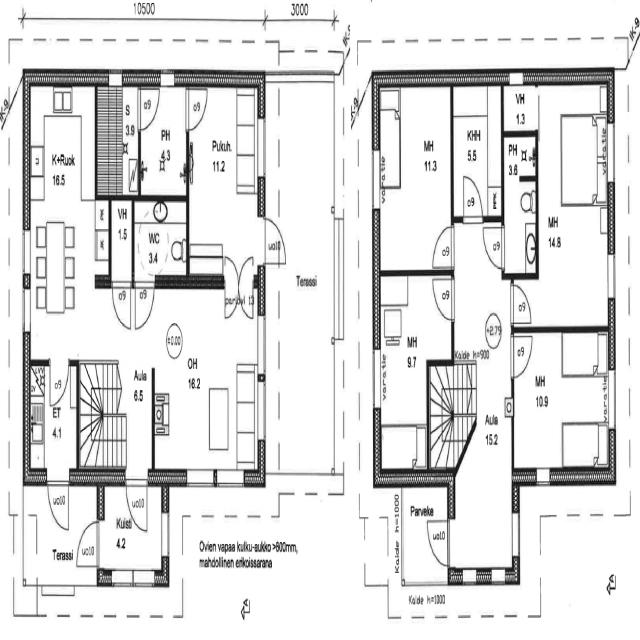door: (221, 248, 252, 324), (124, 472, 150, 534), (46, 471, 71, 532), (260, 212, 287, 266), (75, 515, 101, 569), (429, 271, 456, 322), (426, 514, 451, 568), (430, 222, 455, 270), (136, 83, 160, 133), (133, 276, 156, 328), (185, 85, 209, 134), (510, 329, 534, 378), (482, 219, 505, 270), (110, 278, 132, 331), (461, 174, 484, 222), (48, 358, 70, 407), (510, 280, 534, 324)
window: (256, 372, 268, 443), (256, 109, 267, 186), (370, 144, 382, 214), (256, 310, 268, 380), (371, 342, 382, 414), (214, 467, 248, 489), (184, 466, 217, 488), (125, 566, 156, 588), (606, 118, 616, 186), (160, 508, 172, 563), (606, 246, 617, 304), (606, 366, 616, 428), (510, 506, 521, 560), (20, 225, 31, 278), (110, 566, 136, 588), (21, 282, 31, 336), (533, 464, 553, 489), (490, 562, 507, 586), (158, 70, 178, 90), (461, 564, 479, 586), (507, 70, 526, 87)
zone: (28, 80, 112, 359), (152, 280, 258, 473), (537, 77, 610, 331), (377, 269, 454, 475), (378, 83, 454, 272), (188, 82, 260, 278), (511, 328, 607, 470), (452, 83, 503, 219), (100, 475, 166, 578), (27, 362, 76, 477), (139, 84, 188, 196), (95, 79, 140, 193), (503, 130, 537, 278), (132, 196, 188, 282), (111, 193, 133, 282)
